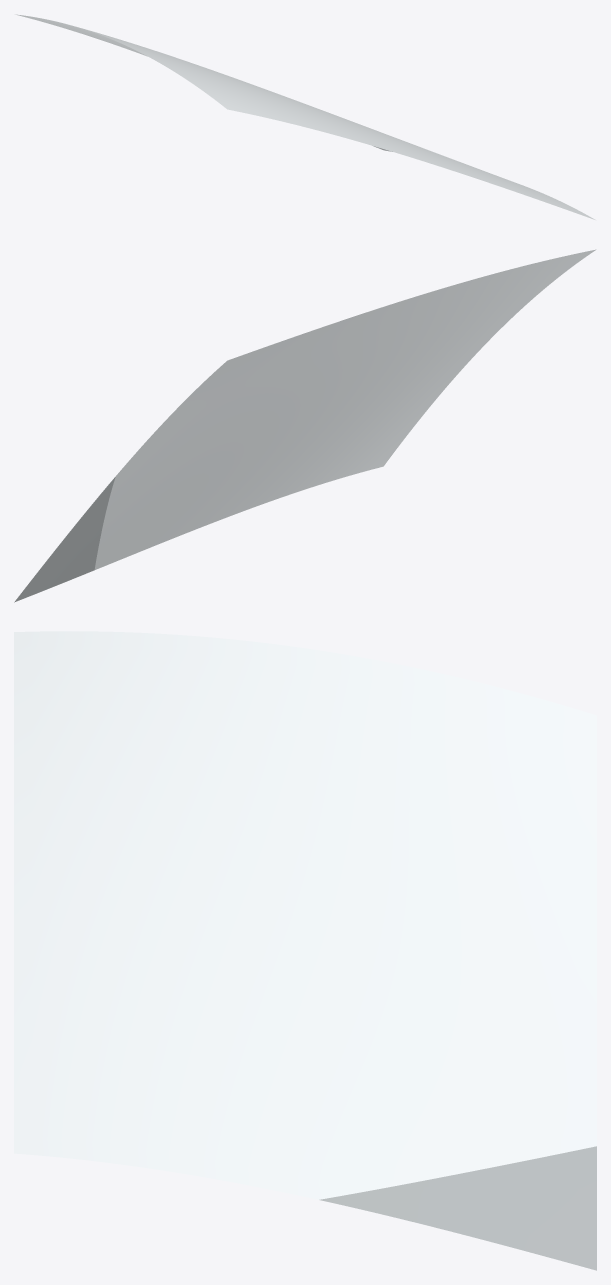
The model's file is alpine-9-6.glb.
3 views of the same model, one above another, from view 1: azimuth 30°, elevation 25°; view 2: azimuth 150°, elevation 25°; view 3: azimuth 270°, elevation 25° (orthographic). The views are drawn at different scales.
Visible parts, largest first — view 1: alpine-9-6; view 2: alpine-9-6; view 3: alpine-9-6.
Part boxes in pixels (x1,y1,x2,y2): alpine-9-6: (15,14,595,219); alpine-9-6: (14,249,596,602); alpine-9-6: (14,631,596,1270).
Size of the model in its own units: 256 by 190 by 256.
2 materials, 2 textured.
